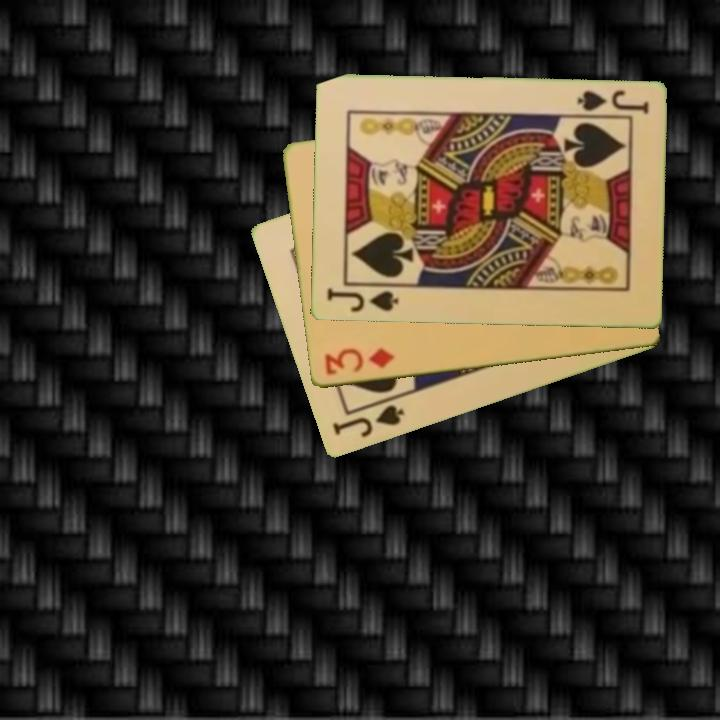3d: (321, 345, 397, 378)
Js: (329, 402, 407, 441), (572, 87, 651, 119), (323, 285, 401, 316)
